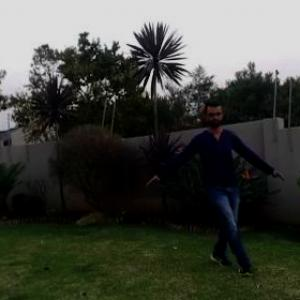land: (142, 100, 276, 262)
